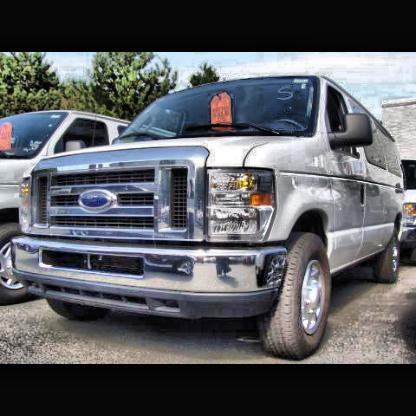Ford E-Series Wagon Van 2012: (12, 72, 414, 362)
